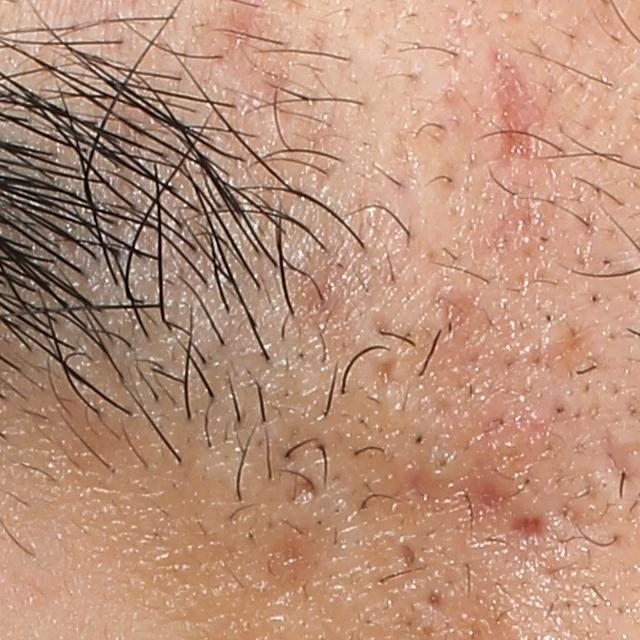atrophic_scar: (486, 46, 545, 164), (210, 12, 269, 70), (455, 471, 511, 532), (272, 532, 315, 594), (412, 469, 457, 525), (506, 510, 551, 543), (289, 476, 319, 506), (374, 357, 399, 386), (425, 588, 444, 611), (400, 544, 415, 568)
